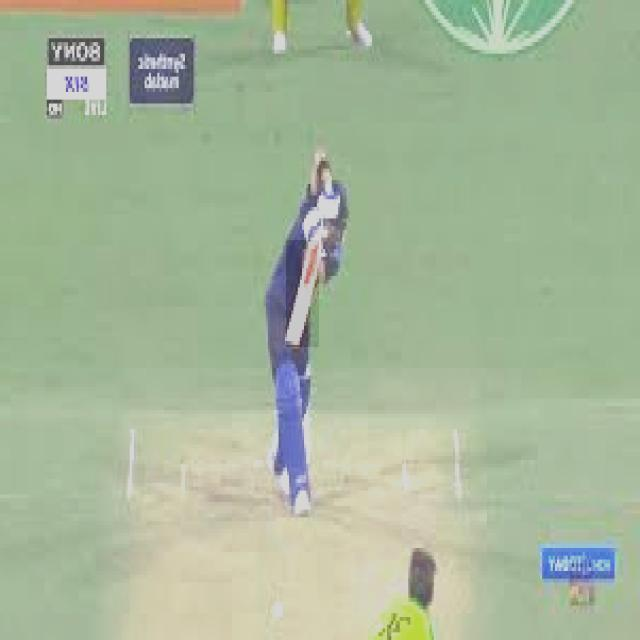bat: (288, 240, 322, 347)
toe: (285, 335, 310, 347)
